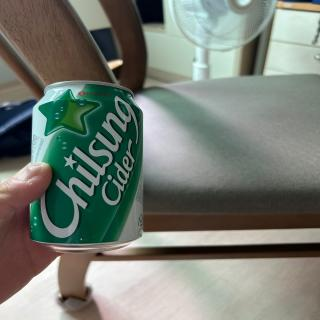cocacola: (27, 78, 145, 255)
